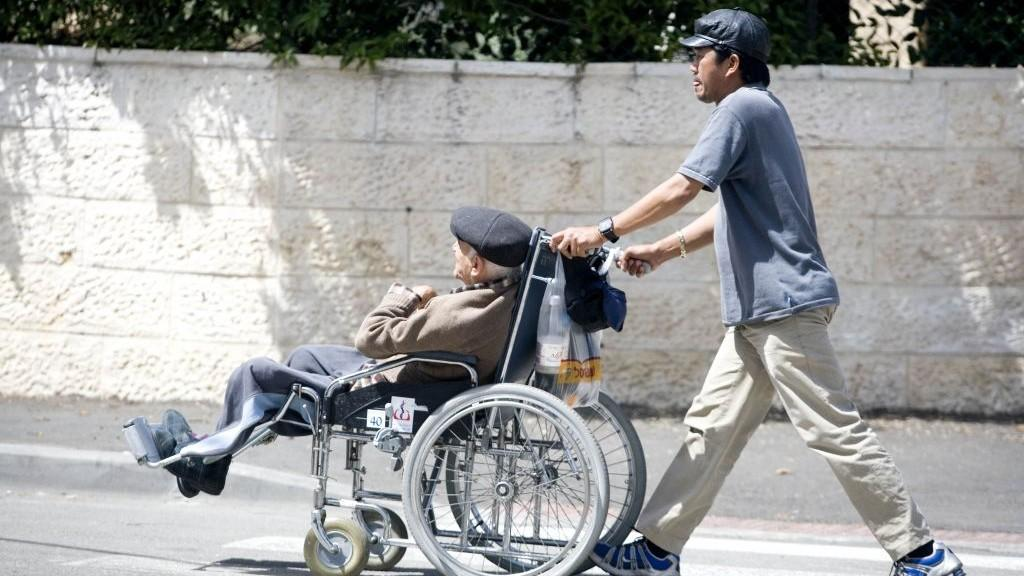push_wheelchair: (550, 7, 967, 576)
wheelchair: (121, 205, 650, 576)
